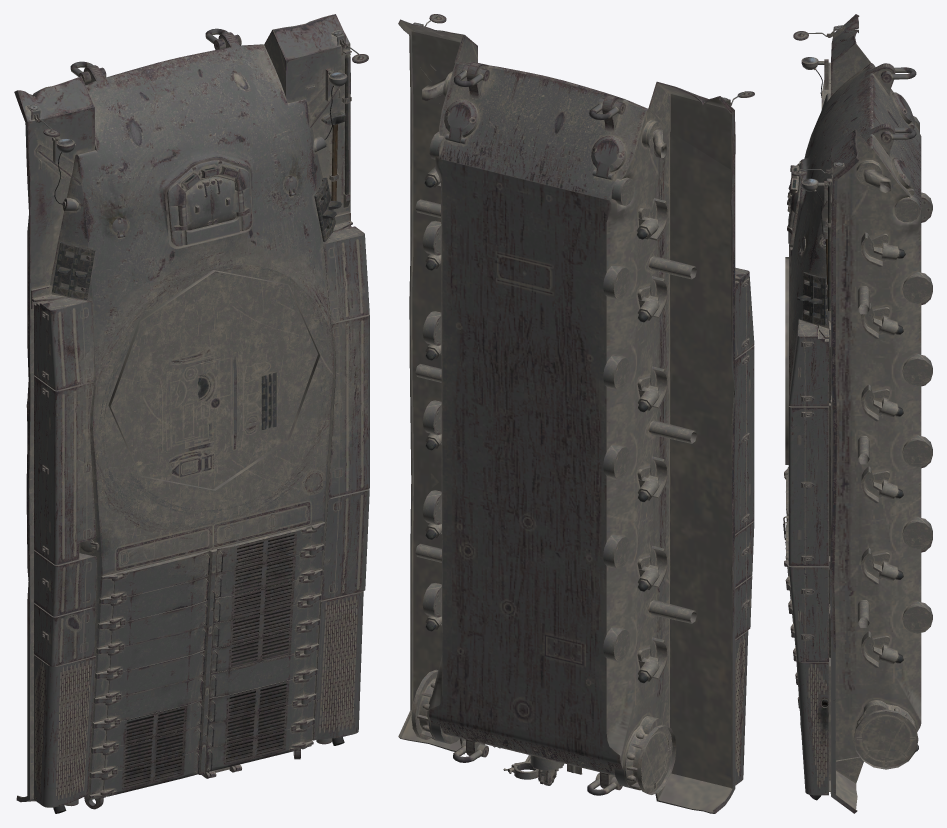
Rendered from Hull.glb.
3 views of the same model, side by side, from view 1: azimuth 30°, elevation 25°; view 2: azimuth 150°, elevation 25°; view 3: azimuth 270°, elevation 25° (orthographic). The views are drawn at different scales.
Parts seen in each view (by area): view 1: set_0_group_0; view 2: set_0_group_0; view 3: set_0_group_0.
Boxes of the visible parts, x1=… form: set_0_group_0: x1=14, y1=14, x2=369, y2=813; set_0_group_0: x1=398, y1=14, x2=754, y2=813; set_0_group_0: x1=783, y1=14, x2=932, y2=813.
Size of the model in its own units: 3.08 by 6.55 by 1.35.
1 material, 1 textured.
